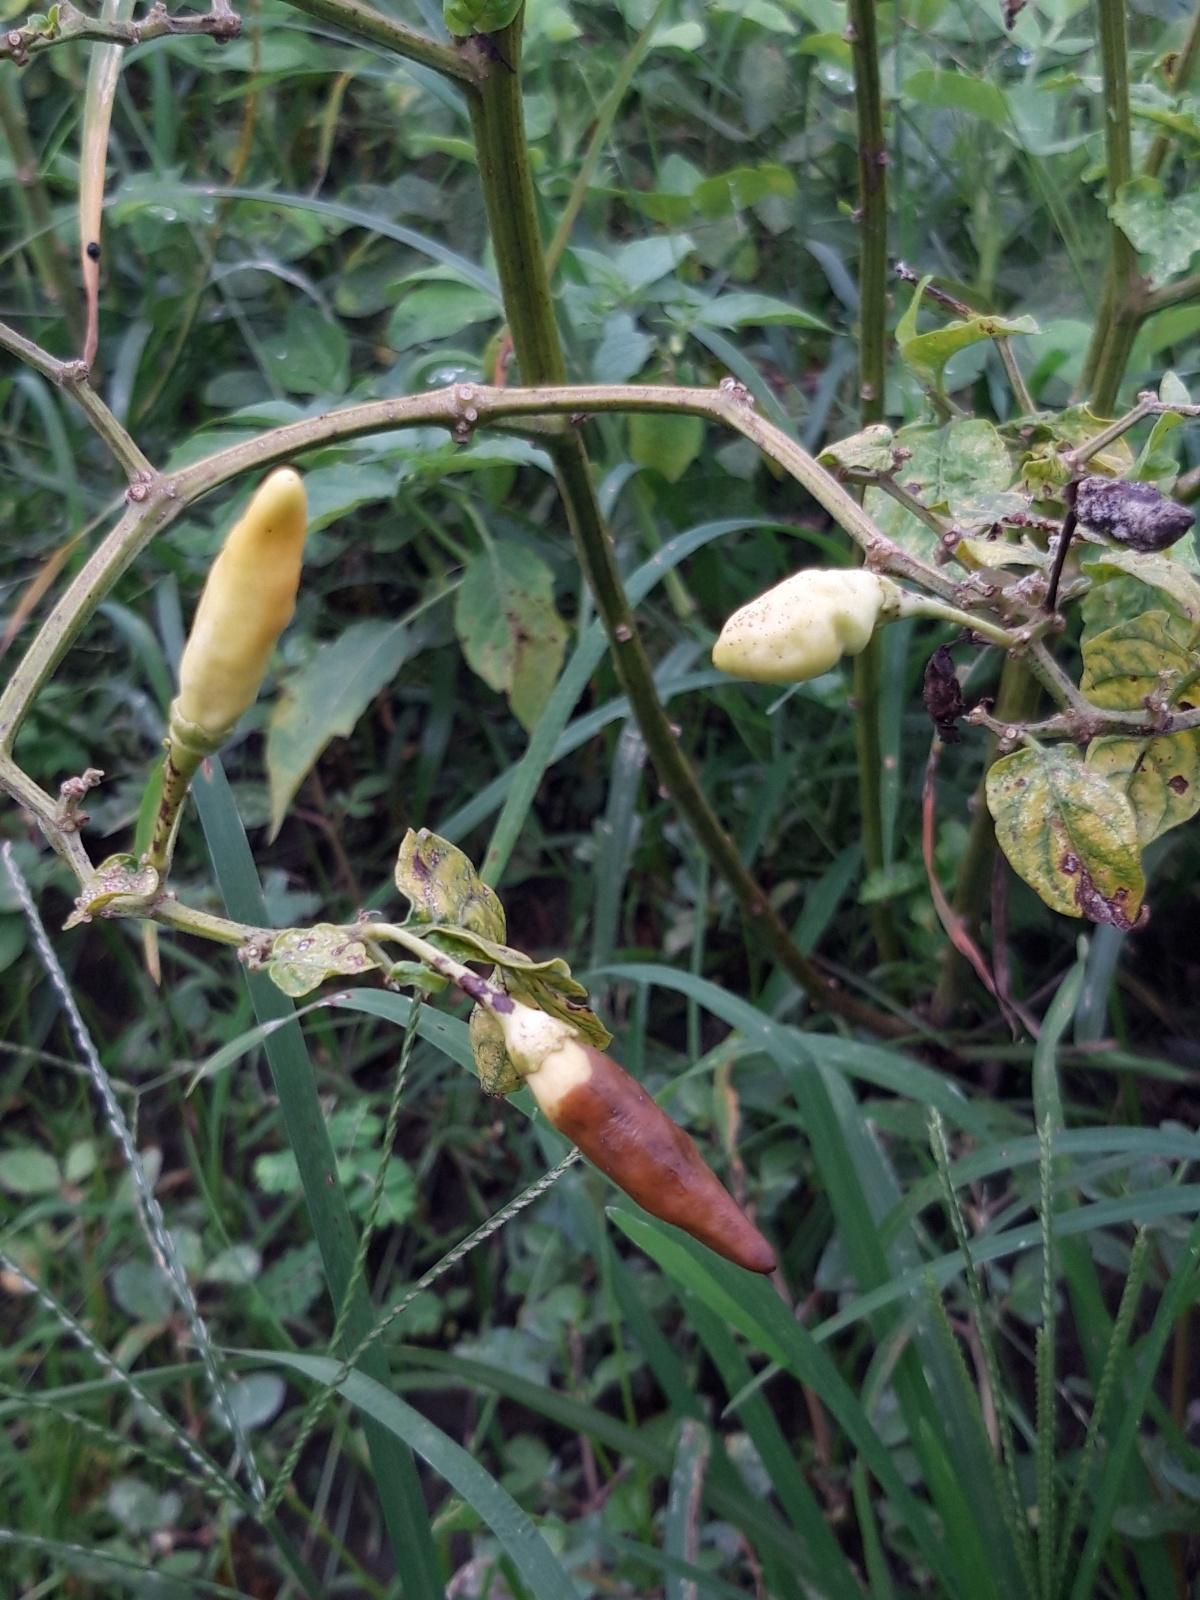cabai_normal: (169, 466, 309, 756), (710, 567, 894, 683)
lalat_buah: (494, 999, 779, 1275)
